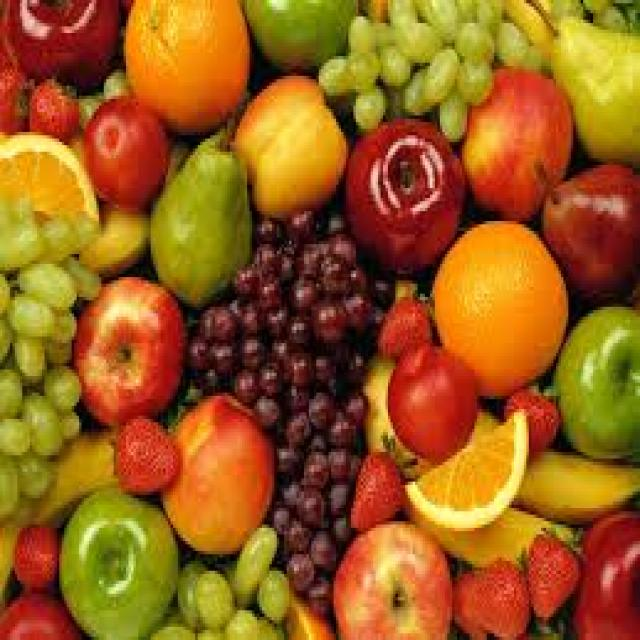organic waste: (360, 274, 638, 518), (360, 277, 580, 564), (0, 419, 126, 623), (427, 214, 566, 390), (146, 109, 252, 307), (57, 482, 178, 636), (524, 0, 637, 162), (344, 116, 462, 270), (457, 63, 571, 221), (161, 386, 269, 551), (230, 70, 343, 214), (400, 402, 529, 528), (121, 0, 247, 129), (70, 274, 180, 419), (531, 155, 638, 297), (554, 300, 638, 459), (59, 135, 151, 274), (388, 333, 477, 452), (0, 0, 126, 82), (79, 96, 163, 211), (0, 129, 99, 221), (571, 504, 637, 636), (240, 0, 353, 63), (346, 429, 413, 524), (524, 518, 583, 617), (462, 548, 529, 634), (106, 412, 176, 492), (0, 587, 91, 636), (499, 386, 556, 455), (373, 290, 430, 356), (230, 522, 274, 600), (24, 70, 76, 136), (445, 561, 489, 637), (12, 518, 60, 584), (12, 258, 74, 304), (272, 594, 334, 637), (2, 287, 57, 333), (17, 389, 57, 452), (173, 554, 208, 624), (193, 564, 230, 630), (504, 0, 556, 46), (0, 56, 32, 129), (7, 326, 47, 379), (393, 19, 442, 62), (450, 17, 494, 62), (425, 46, 460, 102), (37, 363, 82, 406), (60, 251, 102, 297), (395, 62, 430, 116), (455, 53, 494, 99), (435, 89, 469, 139), (415, 0, 457, 40), (0, 224, 42, 264), (257, 567, 289, 617), (494, 13, 524, 66), (40, 215, 76, 258), (348, 79, 383, 122), (225, 290, 262, 330), (312, 297, 344, 343), (15, 452, 49, 495), (282, 204, 321, 241), (346, 46, 378, 89), (316, 52, 346, 96), (339, 382, 368, 426), (292, 485, 324, 524), (0, 363, 22, 419), (0, 445, 17, 517), (306, 528, 334, 571), (292, 234, 324, 271), (183, 326, 210, 369), (302, 386, 331, 426), (296, 449, 328, 485), (358, 300, 383, 346), (208, 337, 237, 376), (195, 304, 230, 336), (529, 607, 566, 637), (286, 551, 314, 590), (47, 300, 74, 340), (378, 46, 410, 79), (250, 386, 279, 422), (534, 0, 578, 23), (0, 412, 25, 452), (74, 86, 101, 122), (324, 409, 351, 445), (151, 614, 195, 636), (344, 290, 366, 334), (590, 0, 622, 30), (316, 258, 346, 290), (334, 340, 358, 379), (0, 195, 32, 224), (346, 13, 371, 50), (269, 247, 294, 284), (264, 336, 292, 369), (289, 343, 314, 379), (306, 574, 328, 614), (272, 442, 294, 482), (220, 607, 249, 637), (324, 228, 353, 257), (254, 277, 282, 307), (279, 376, 304, 409), (237, 333, 262, 366), (383, 82, 405, 119), (370, 20, 398, 49), (252, 610, 282, 637), (311, 350, 336, 382), (282, 409, 306, 442), (255, 360, 279, 392), (289, 277, 314, 307), (388, 0, 425, 20), (99, 66, 123, 96), (324, 445, 348, 475), (250, 244, 276, 271), (252, 211, 277, 238), (328, 508, 348, 541), (287, 310, 309, 340), (265, 303, 289, 330), (524, 43, 546, 72), (0, 313, 12, 366), (232, 366, 252, 396), (40, 340, 69, 360), (56, 406, 76, 435), (344, 261, 364, 290), (232, 261, 252, 290), (326, 482, 348, 508), (72, 215, 96, 238), (269, 498, 289, 525), (284, 518, 304, 544), (279, 475, 299, 501), (472, 0, 497, 20), (450, 0, 474, 20), (190, 624, 222, 636), (356, 0, 385, 13), (344, 449, 358, 475), (0, 273, 7, 313), (306, 432, 322, 446), (578, 0, 600, 10)
